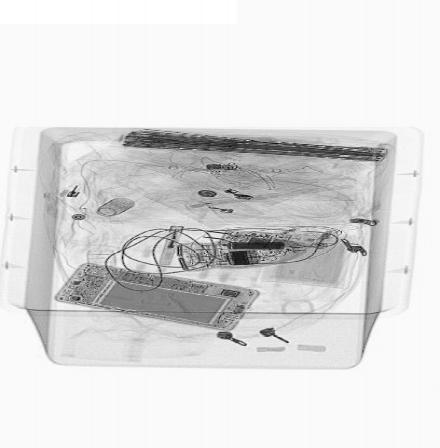Lighter: (156, 224, 187, 267)
